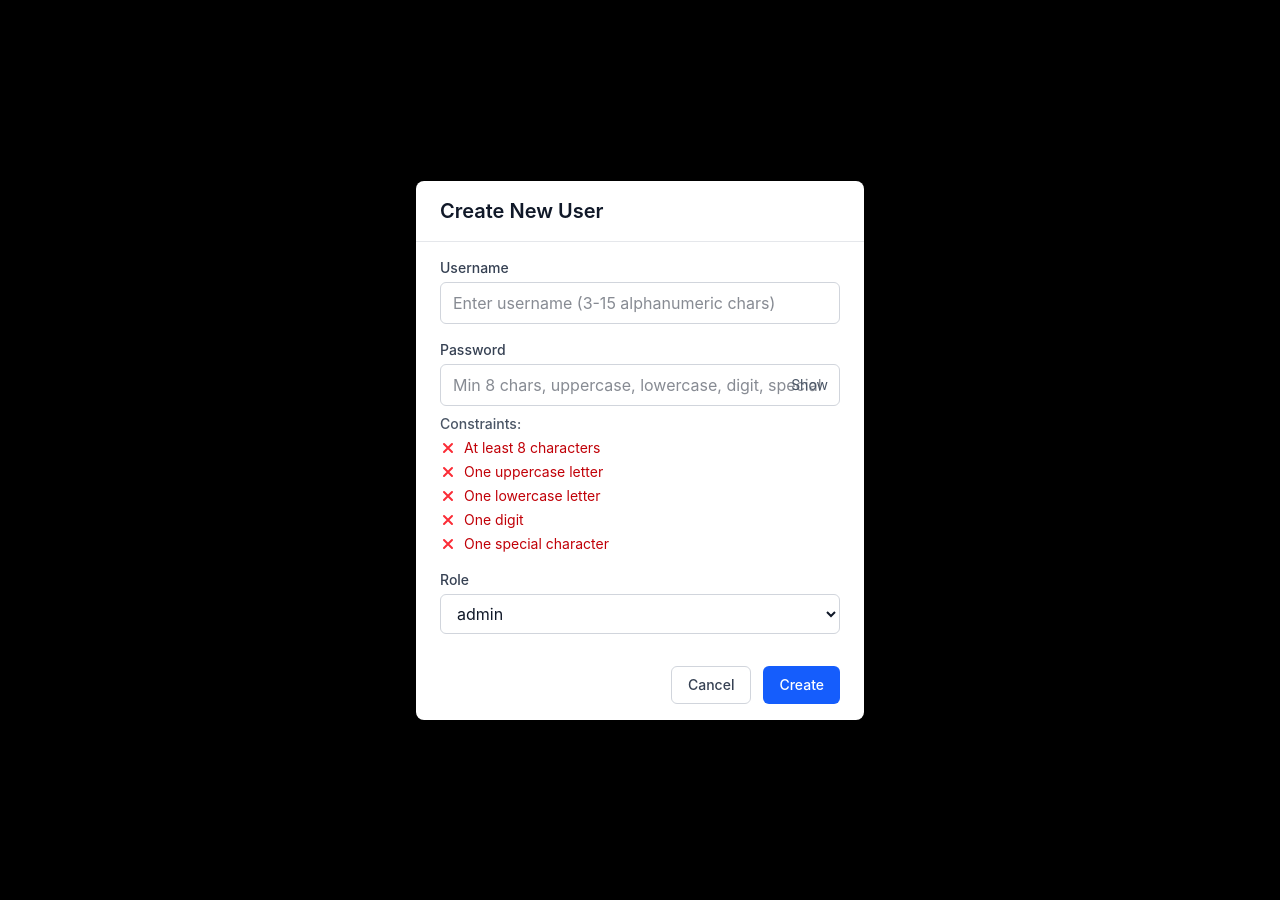
Scenario: CreateUserModal › Form Submission › should show loading state during submission
Type "newuser" into the field labelled "Username".
click(640, 302); type("newuser")  # box [440,282,840,324]
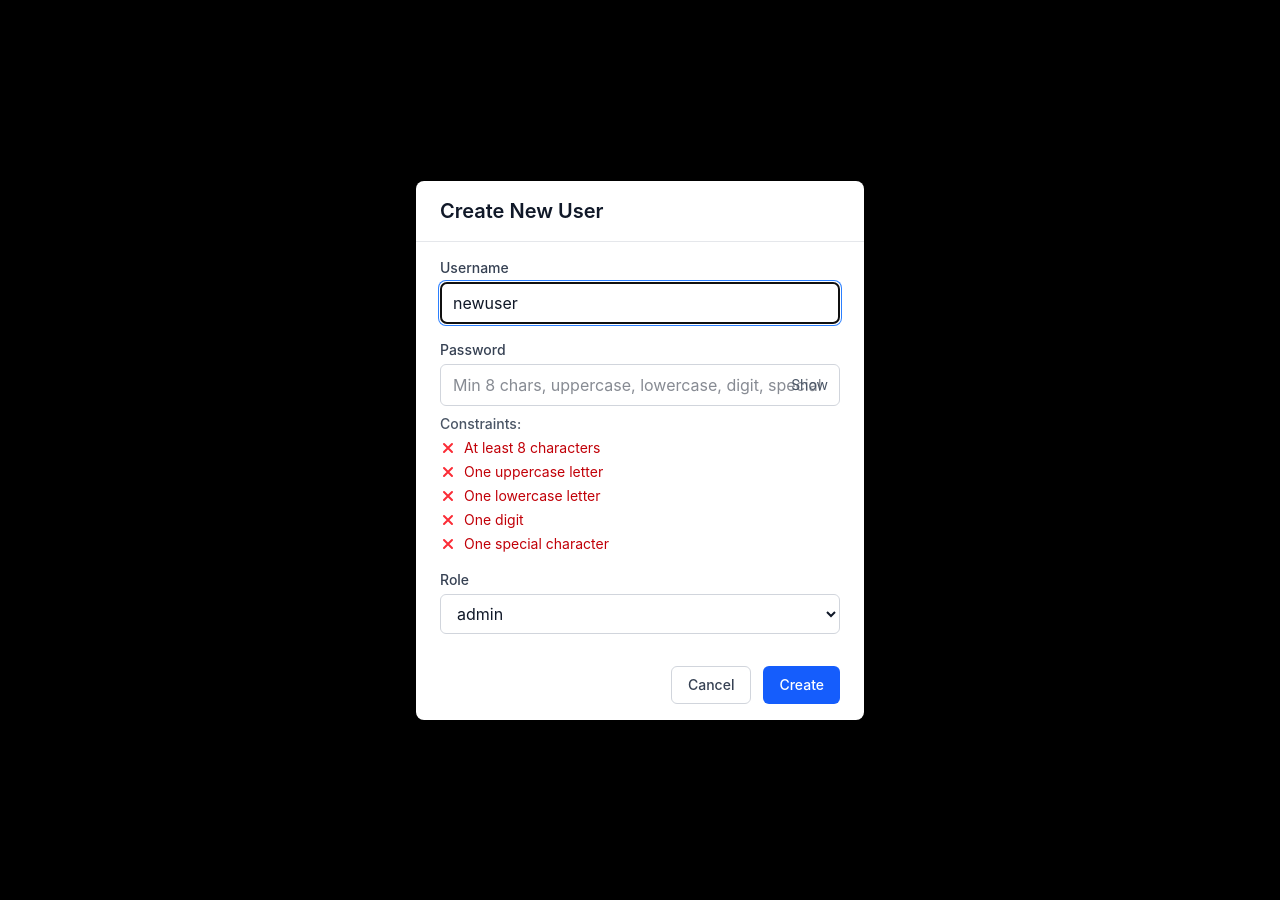
Type "SecurePass123!" into the password field labelled "Password".
click(640, 384); type("SecurePass123!")  # box [440,364,840,406]
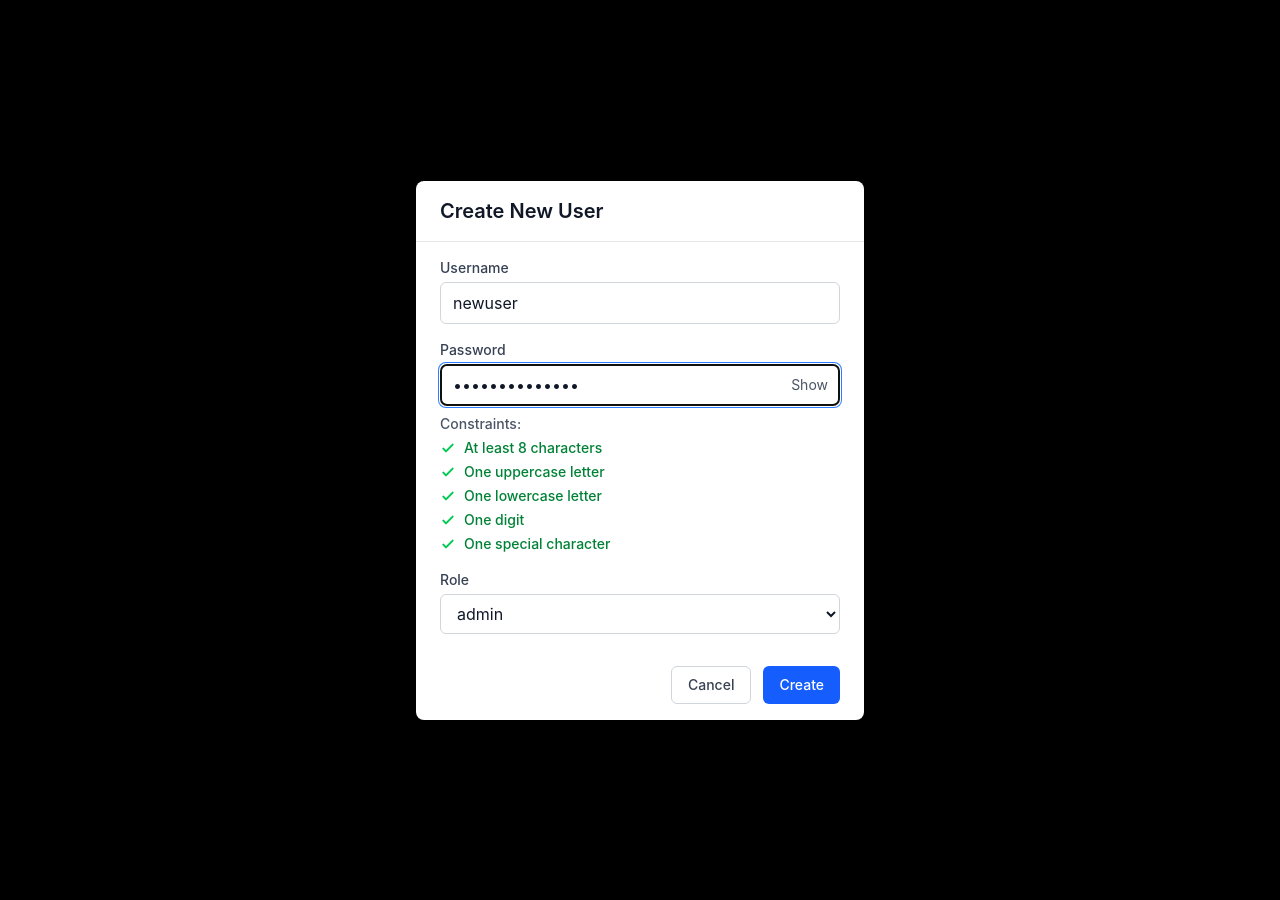
Click the button "Create".
click(802, 684)  # box [763,666,840,704]
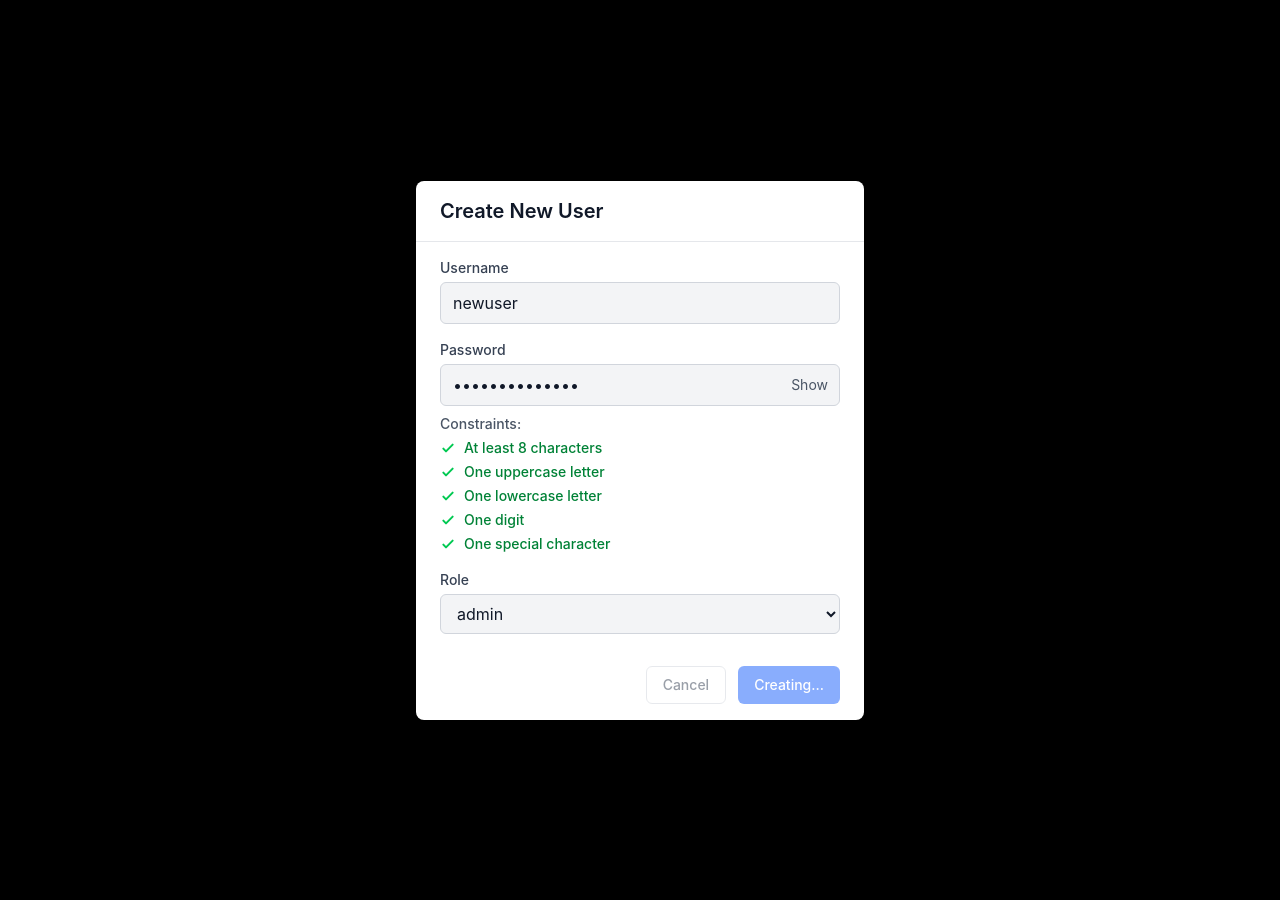
Expected: the button named "create" is disabled, [738,666,840,704]
